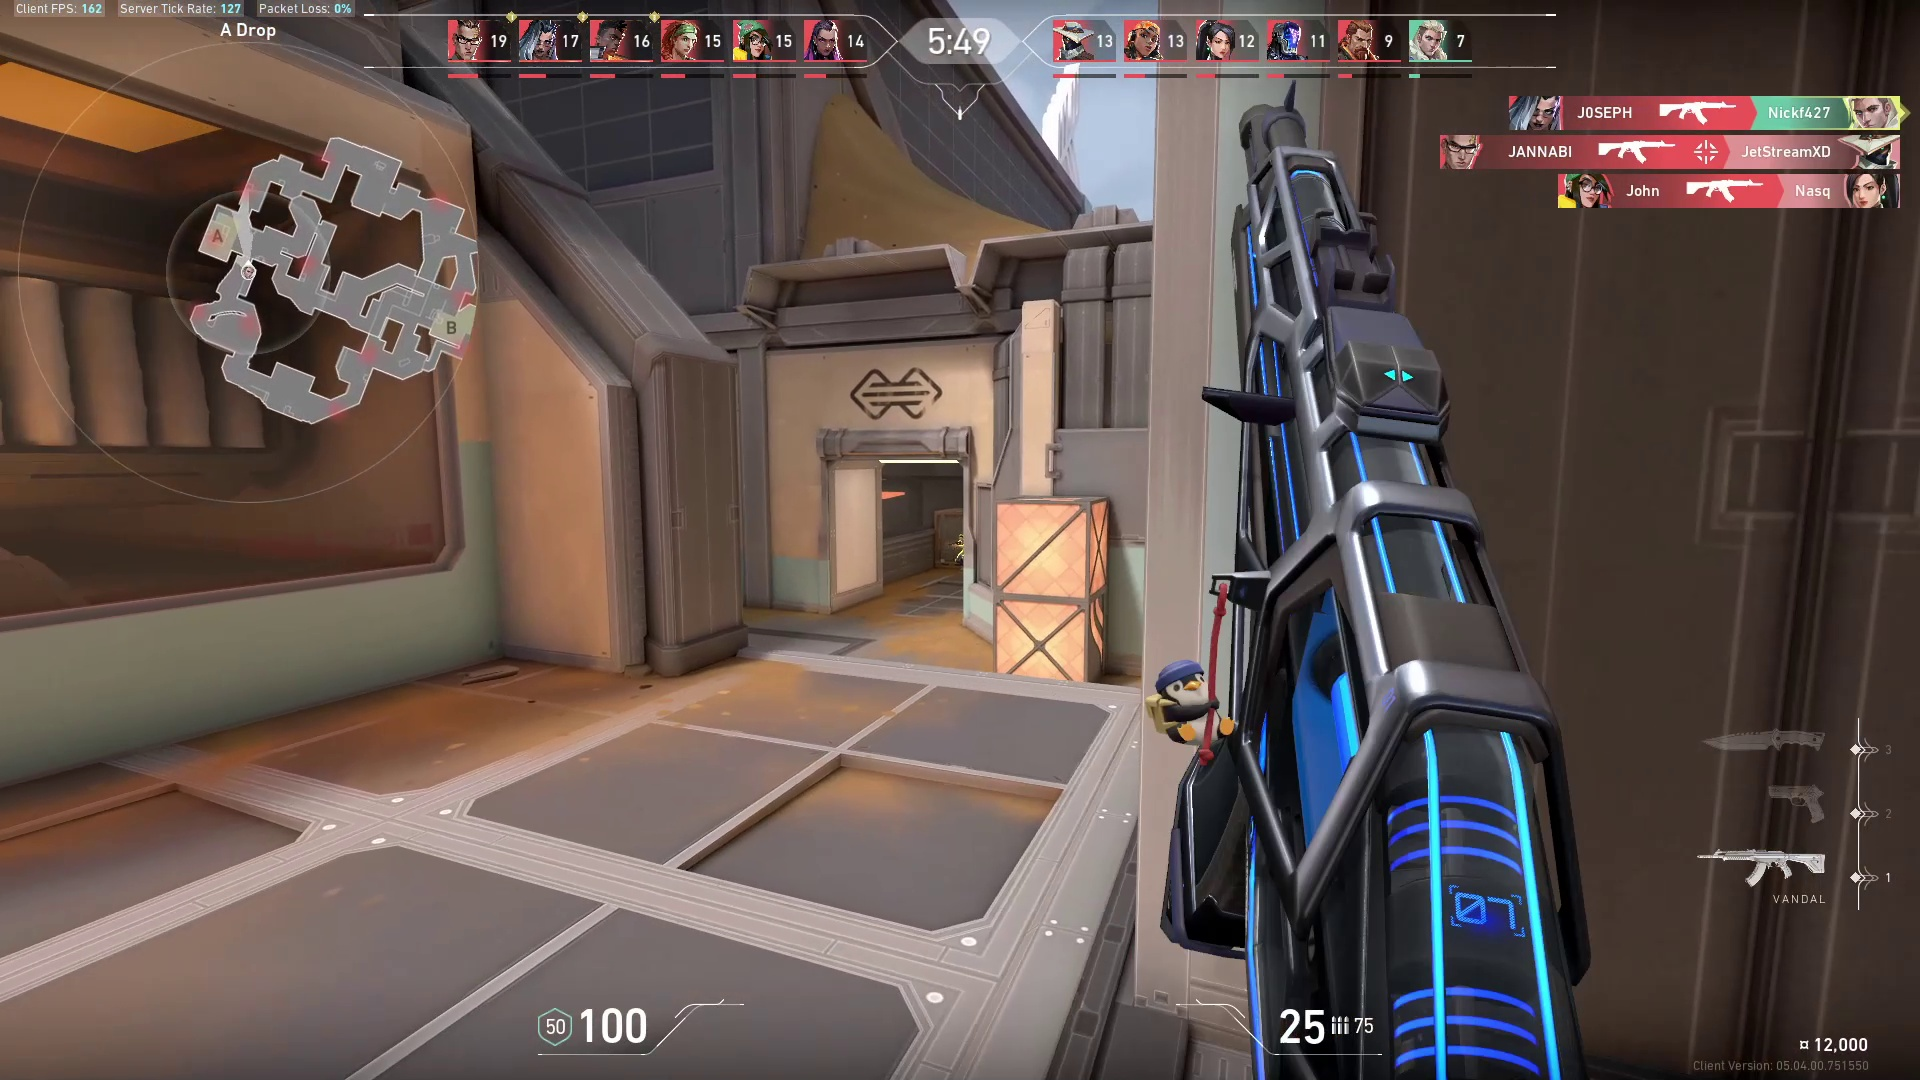enemy_body: (951, 543, 965, 568)
enemy_head: (957, 533, 965, 542)
